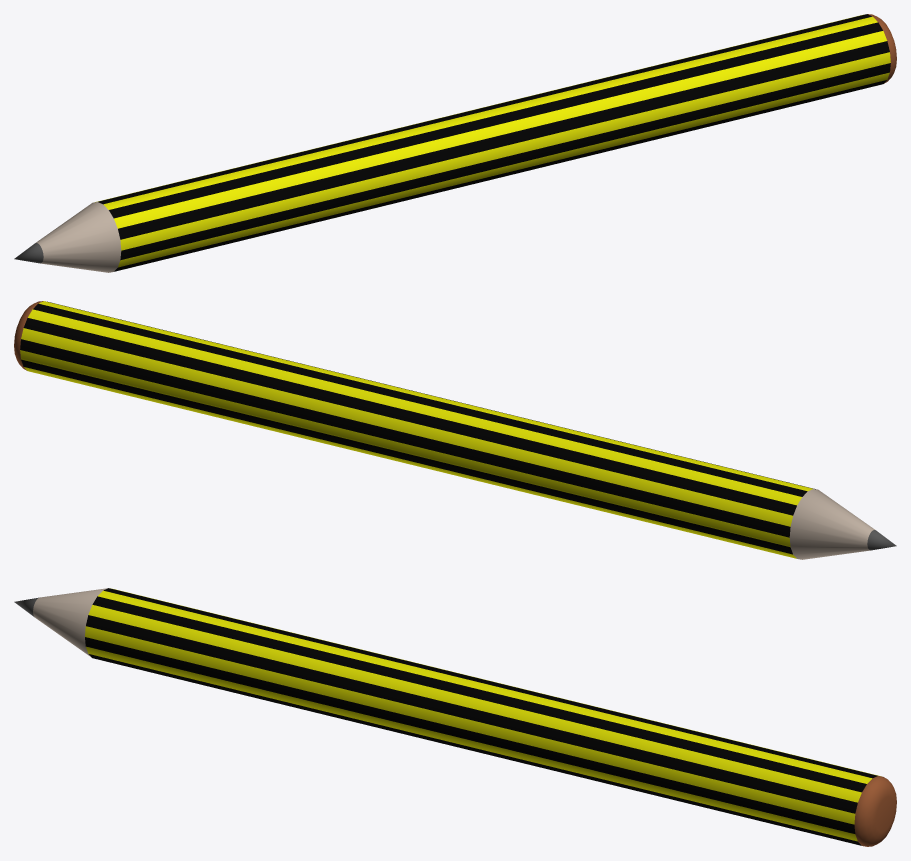
Rendered from LapizFinal.fbx.
3 views of the same model, one above another, from view 1: azimuth 30°, elevation 25°; view 2: azimuth 150°, elevation 25°; view 3: azimuth 330°, elevation 25° (orthographic).
Visible parts, largest first — view 1: Lapiz; view 2: Lapiz; view 3: Lapiz.
Part boxes in pixels (box(x1,y1,x2,y2)): Lapiz: box(14, 14, 896, 272); Lapiz: box(14, 301, 896, 559); Lapiz: box(14, 588, 896, 846).
Bounding box in the file's own units: 0.6745 × 0.0489 × 0.0489.
